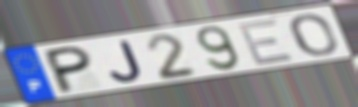2: (146, 32, 200, 82)
9: (193, 25, 243, 72)
E: (235, 16, 297, 68)
J: (107, 38, 146, 84)
O: (288, 12, 340, 58)
P: (43, 44, 93, 96)
